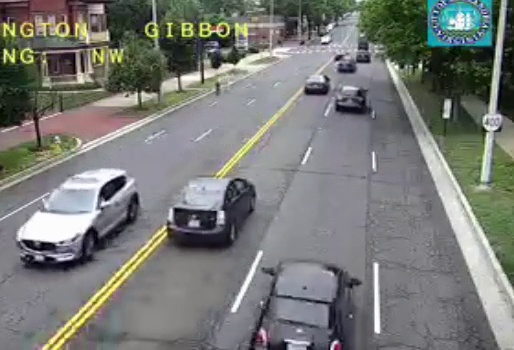car: (250, 261, 351, 350), (168, 178, 256, 241), (336, 86, 365, 111), (304, 74, 328, 94)
